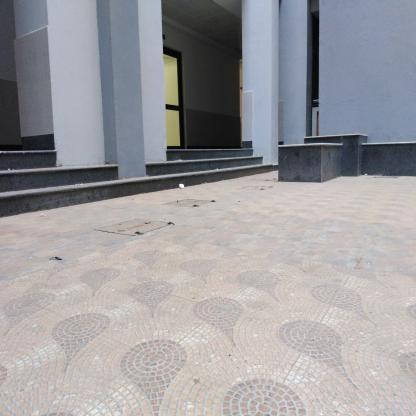stairs: (168, 147, 254, 186)
